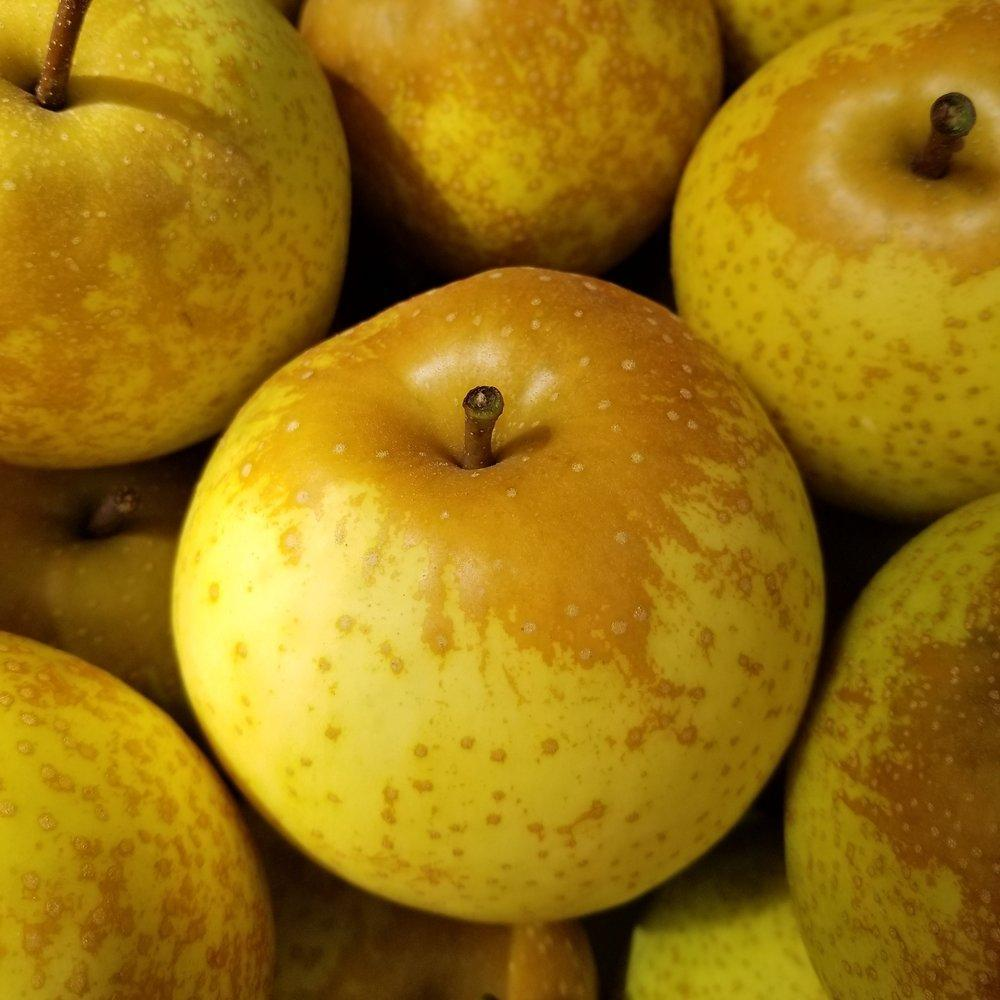apple: (176, 276, 834, 932), (671, 6, 999, 530), (1, 4, 357, 470), (310, 6, 730, 296), (1, 628, 279, 991)
